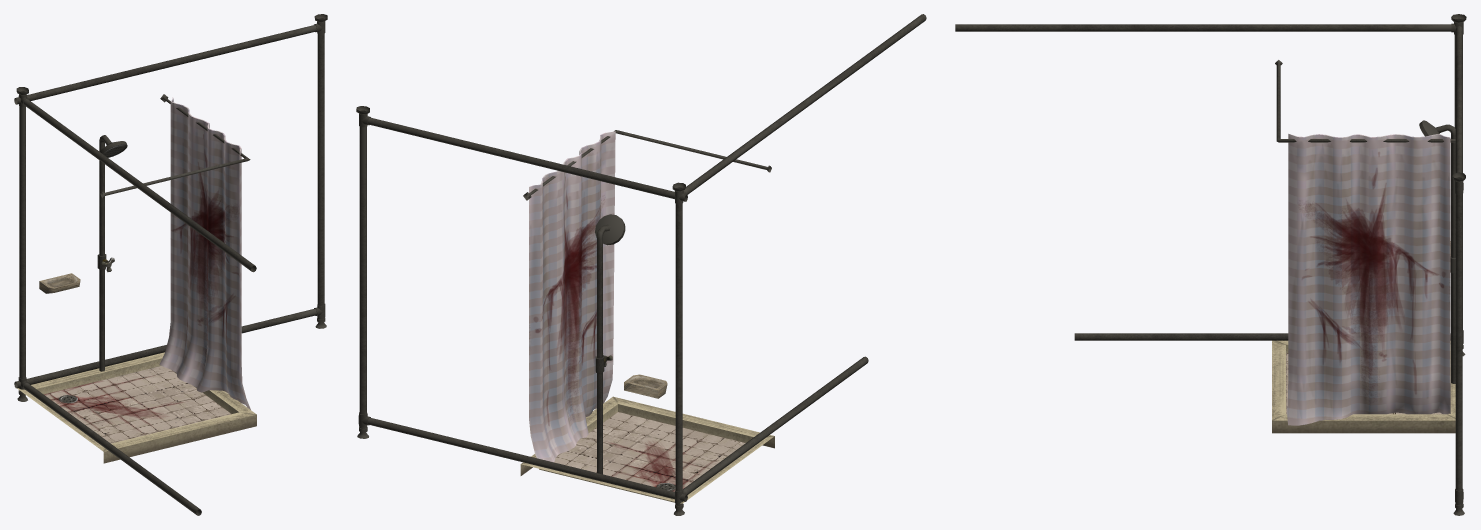
Rendered from shower.fbx.
3 views of the same model, side by side, from view 1: azimuth 30°, elevation 25°; view 2: azimuth 150°, elevation 25°; view 3: azimuth 270°, elevation 25° (orthographic). The views are drawn at different scales.
Parts seen in each view (by area): view 1: polySurface1949; view 2: polySurface1949; view 3: polySurface1949.
Part boxes in pixels (x1,y1,x2,y2): polySurface1949: [14, 14, 327, 515]; polySurface1949: [356, 14, 926, 515]; polySurface1949: [955, 14, 1466, 515].
Bounding box in the file's own units: 317 × 301 × 413.
